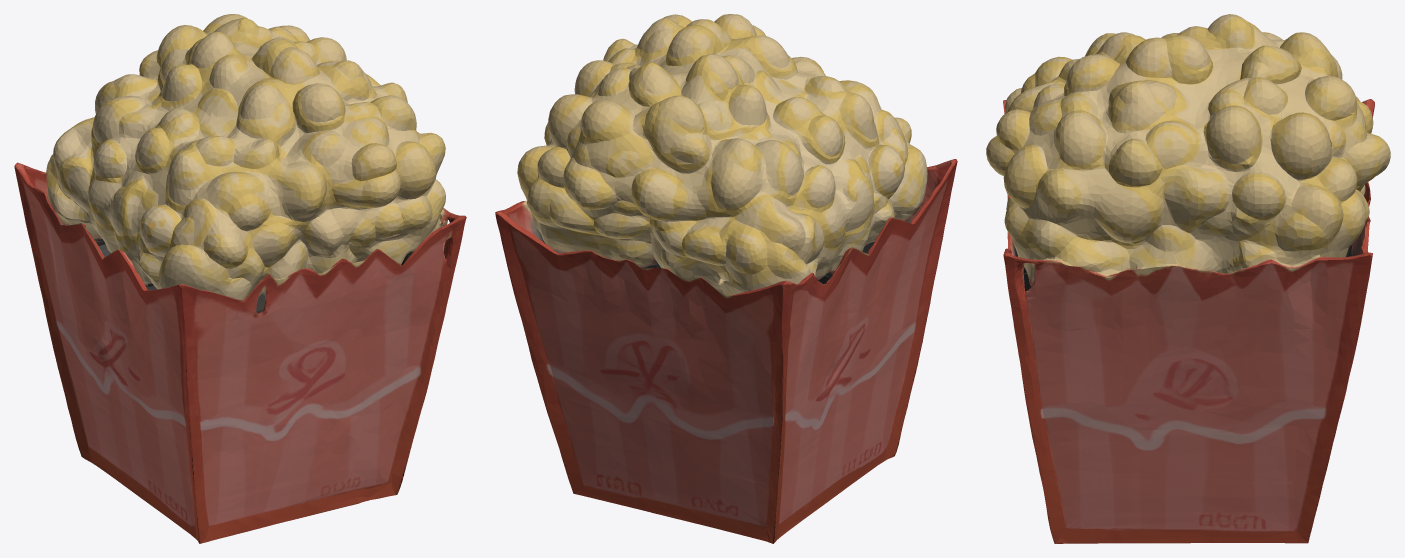
The model's file is popcorn.glb.
3 views of the same model, side by side, from view 1: azimuth 30°, elevation 25°; view 2: azimuth 150°, elevation 25°; view 3: azimuth 270°, elevation 25° (orthographic). The views are drawn at different scales.
Visible parts, largest first — view 1: world; view 2: world; view 3: world.
Part boxes in pixels (left/top/right/bottom): world: left=14, top=14, right=466, bottom=543; world: left=495, top=14, right=957, bottom=543; world: left=986, top=14, right=1390, bottom=543.
Bounding box in the file's own units: 0.7146 × 1 × 0.7734.
1 material, 1 textured.
